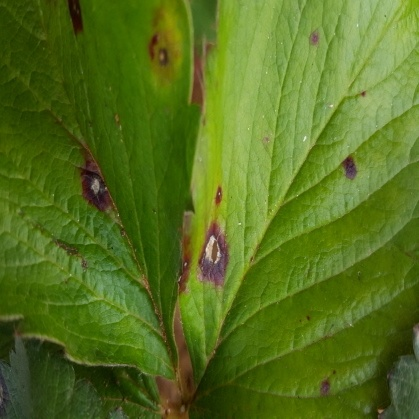Leaf_Spot: (0, 0, 239, 418), (175, 42, 418, 418)
